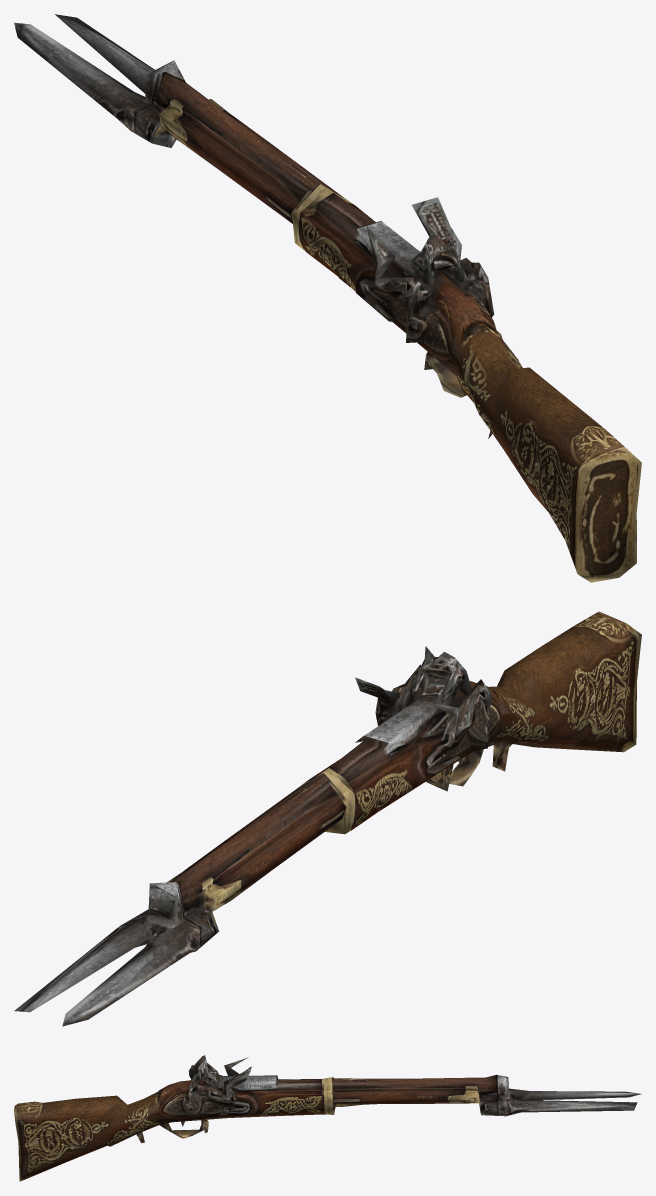
Rendered from infantry_spd_musket.fbx.
3 renders of one model, top to bottom at view 1: azimuth 30°, elevation 25°; view 2: azimuth 150°, elevation 25°; view 3: azimuth 270°, elevation 25°, orthographic. The views are drawn at different scales.
Parts seen in each view (by area): view 1: tripo_node_cd180822-4f57-45a8-92a7-fa41855dd23e; view 2: tripo_node_cd180822-4f57-45a8-92a7-fa41855dd23e; view 3: tripo_node_cd180822-4f57-45a8-92a7-fa41855dd23e.
Boxes of the visible parts, x1,y1,x2,y2 form: tripo_node_cd180822-4f57-45a8-92a7-fa41855dd23e: (14, 14, 641, 582); tripo_node_cd180822-4f57-45a8-92a7-fa41855dd23e: (14, 611, 641, 1026); tripo_node_cd180822-4f57-45a8-92a7-fa41855dd23e: (14, 1055, 641, 1181).
Size of the model in its own units: 8.69 by 21.21 by 98.2.
Materials: 1 (1 with a texture image).
